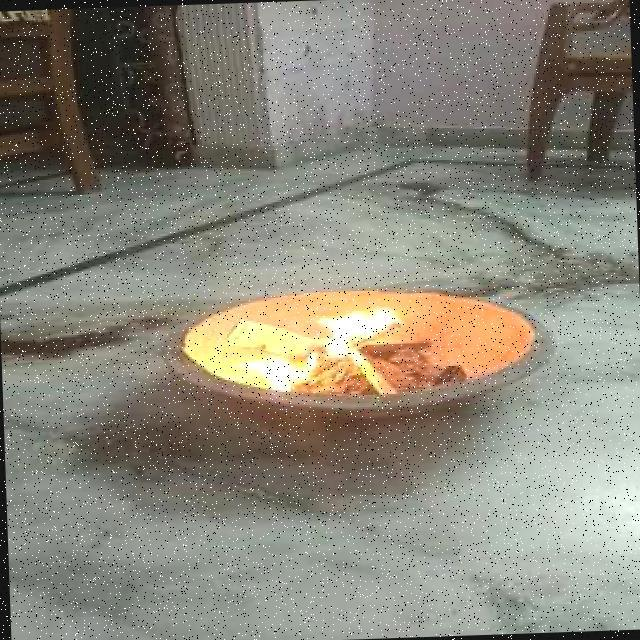Fire: (221, 290, 401, 410)
